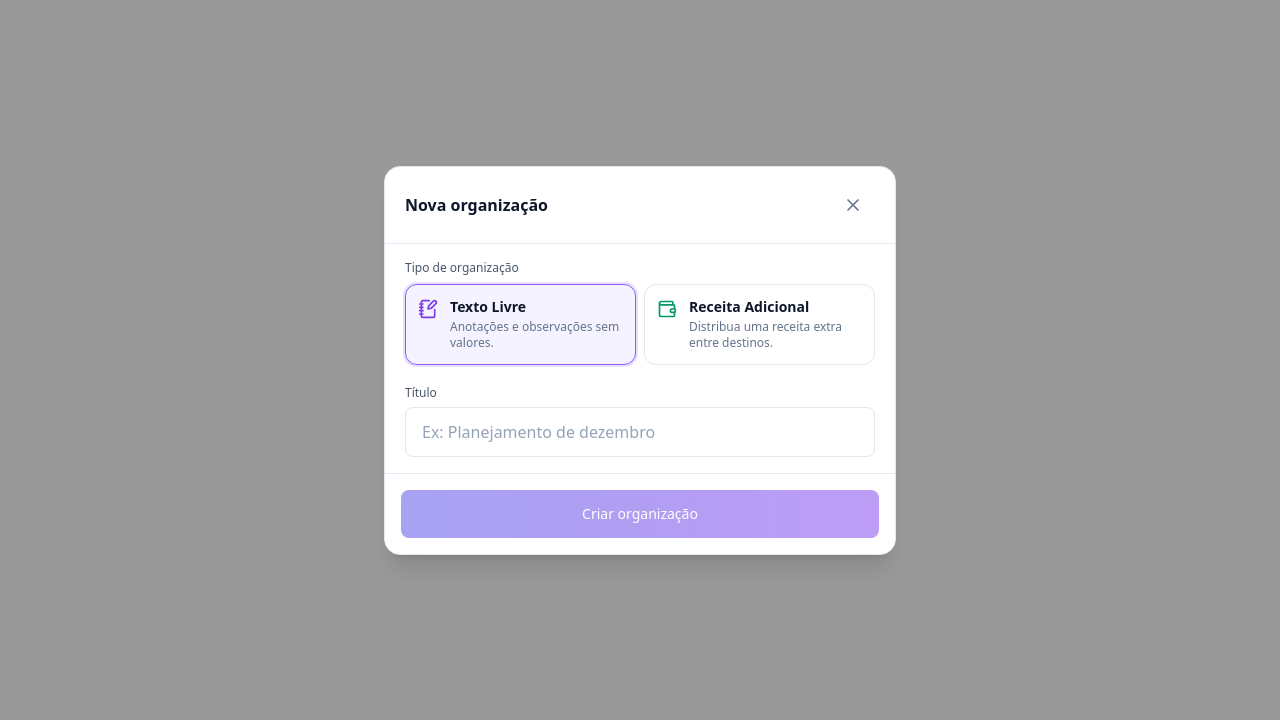
OrganizationFormSheet › valida valor obrigatório na receita adicional
Click the button "Receita Adicional".
click(760, 324)  # box [644,284,875,364]
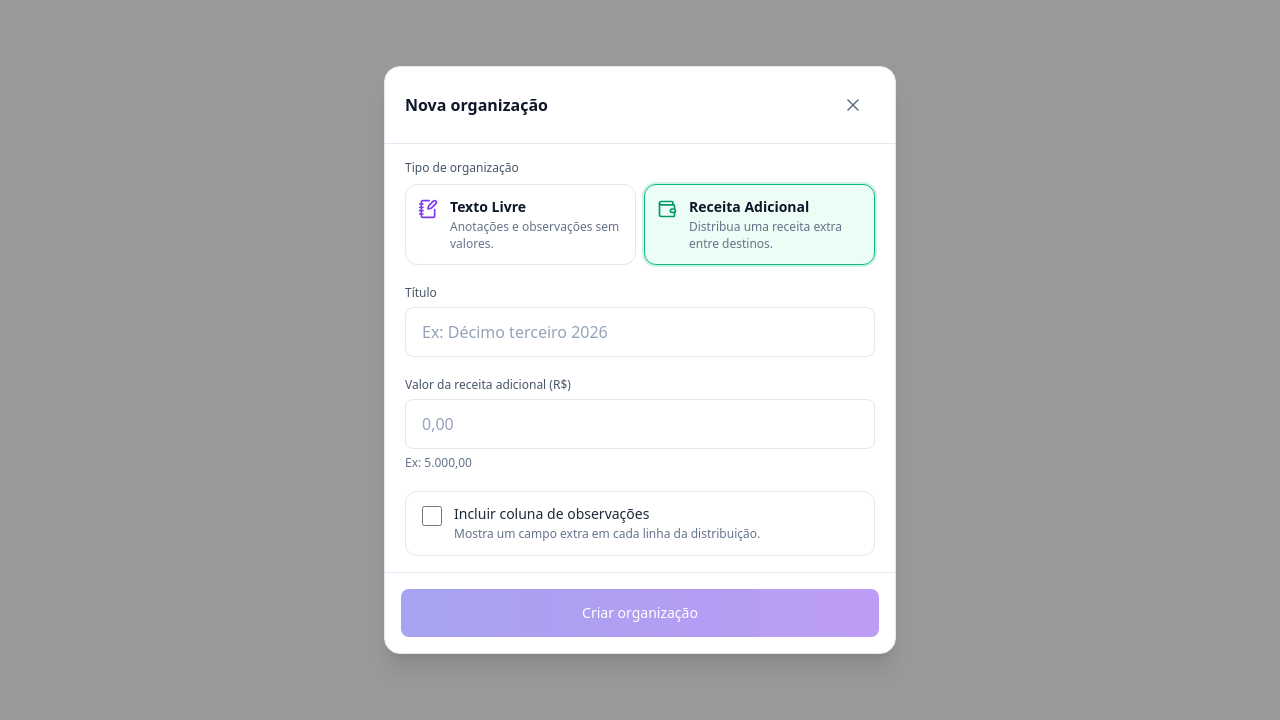
Type "PLR" into the field labelled "Título".
click(640, 332); type("PLR")  # box [405,307,875,357]
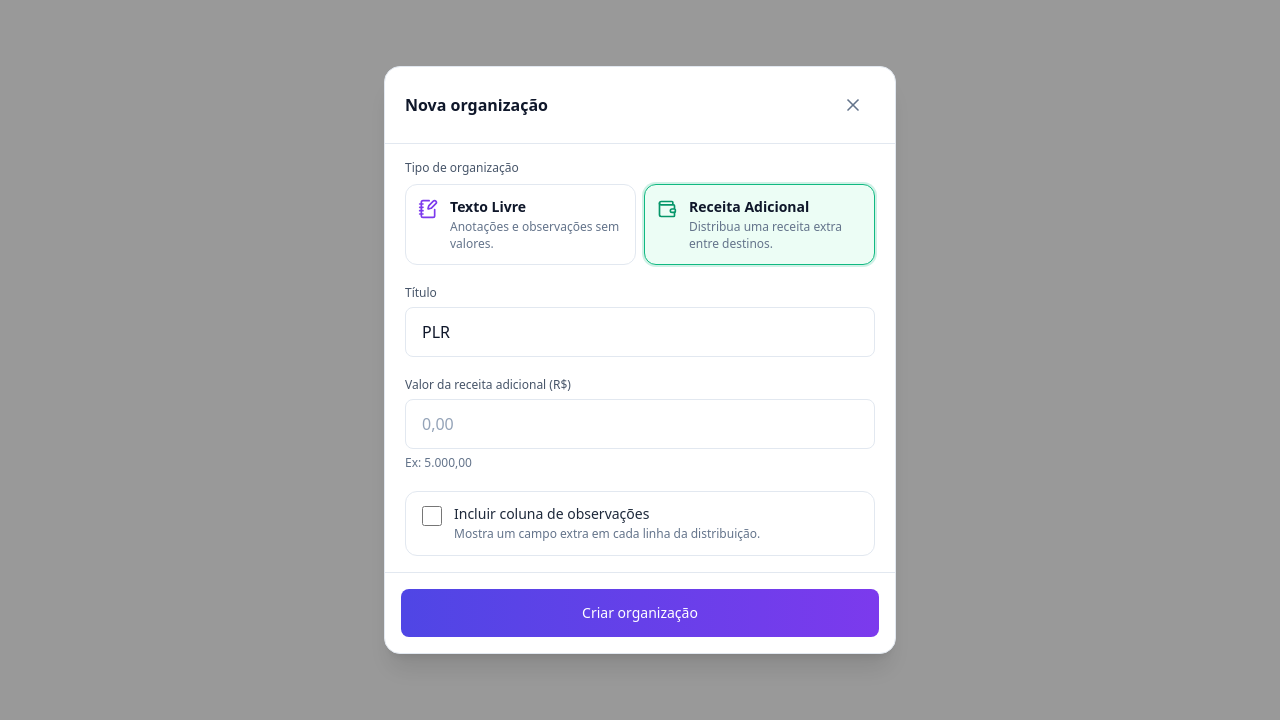
Click the button "Criar organização".
click(640, 613)  # box [401,589,879,637]
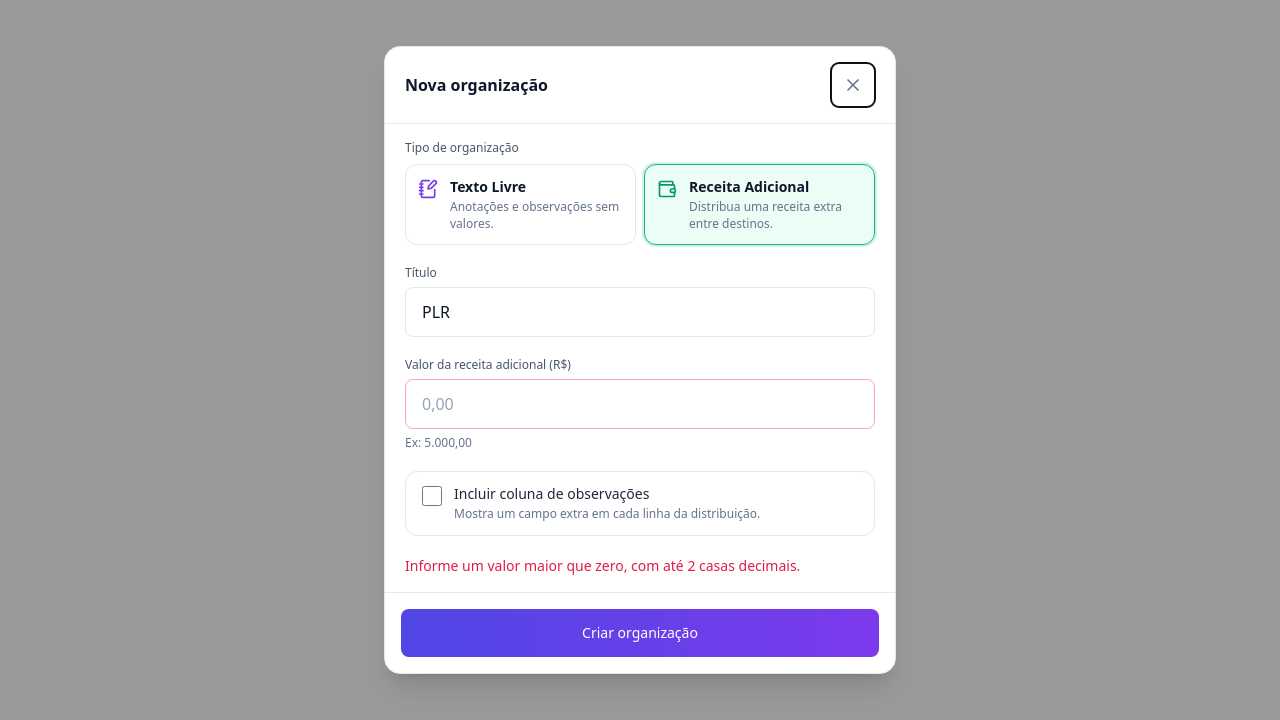
expect the text "Informe um valor maior que zero, com até 2 casas decimais." is shown: met, box [405,556,800,575]
